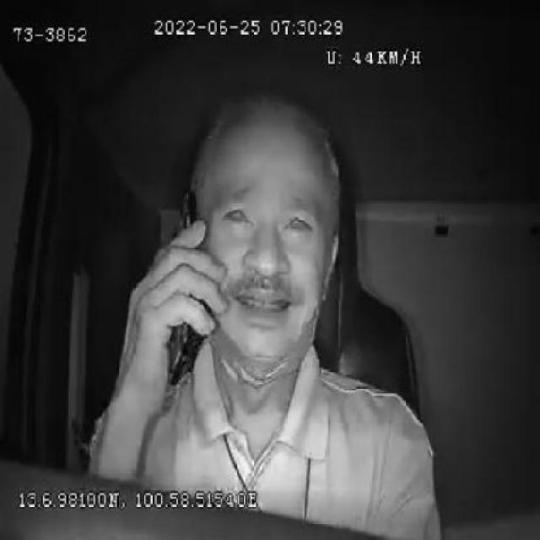phone: (157, 192, 207, 388)
